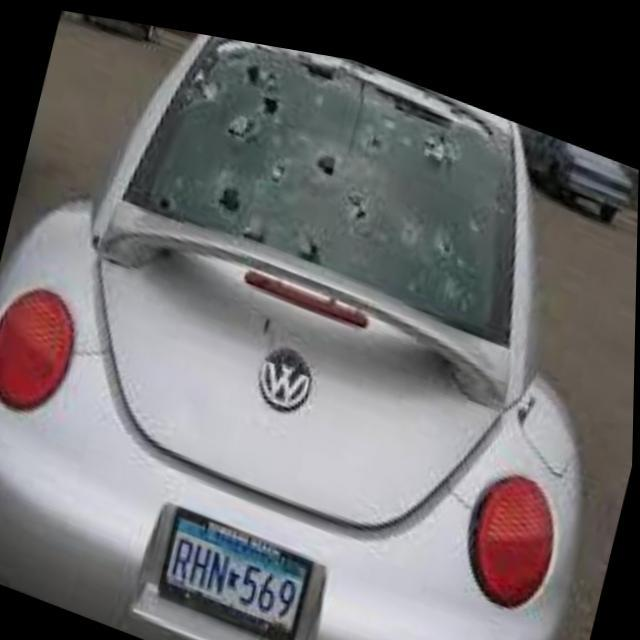glass shatter: (124, 27, 521, 331)
